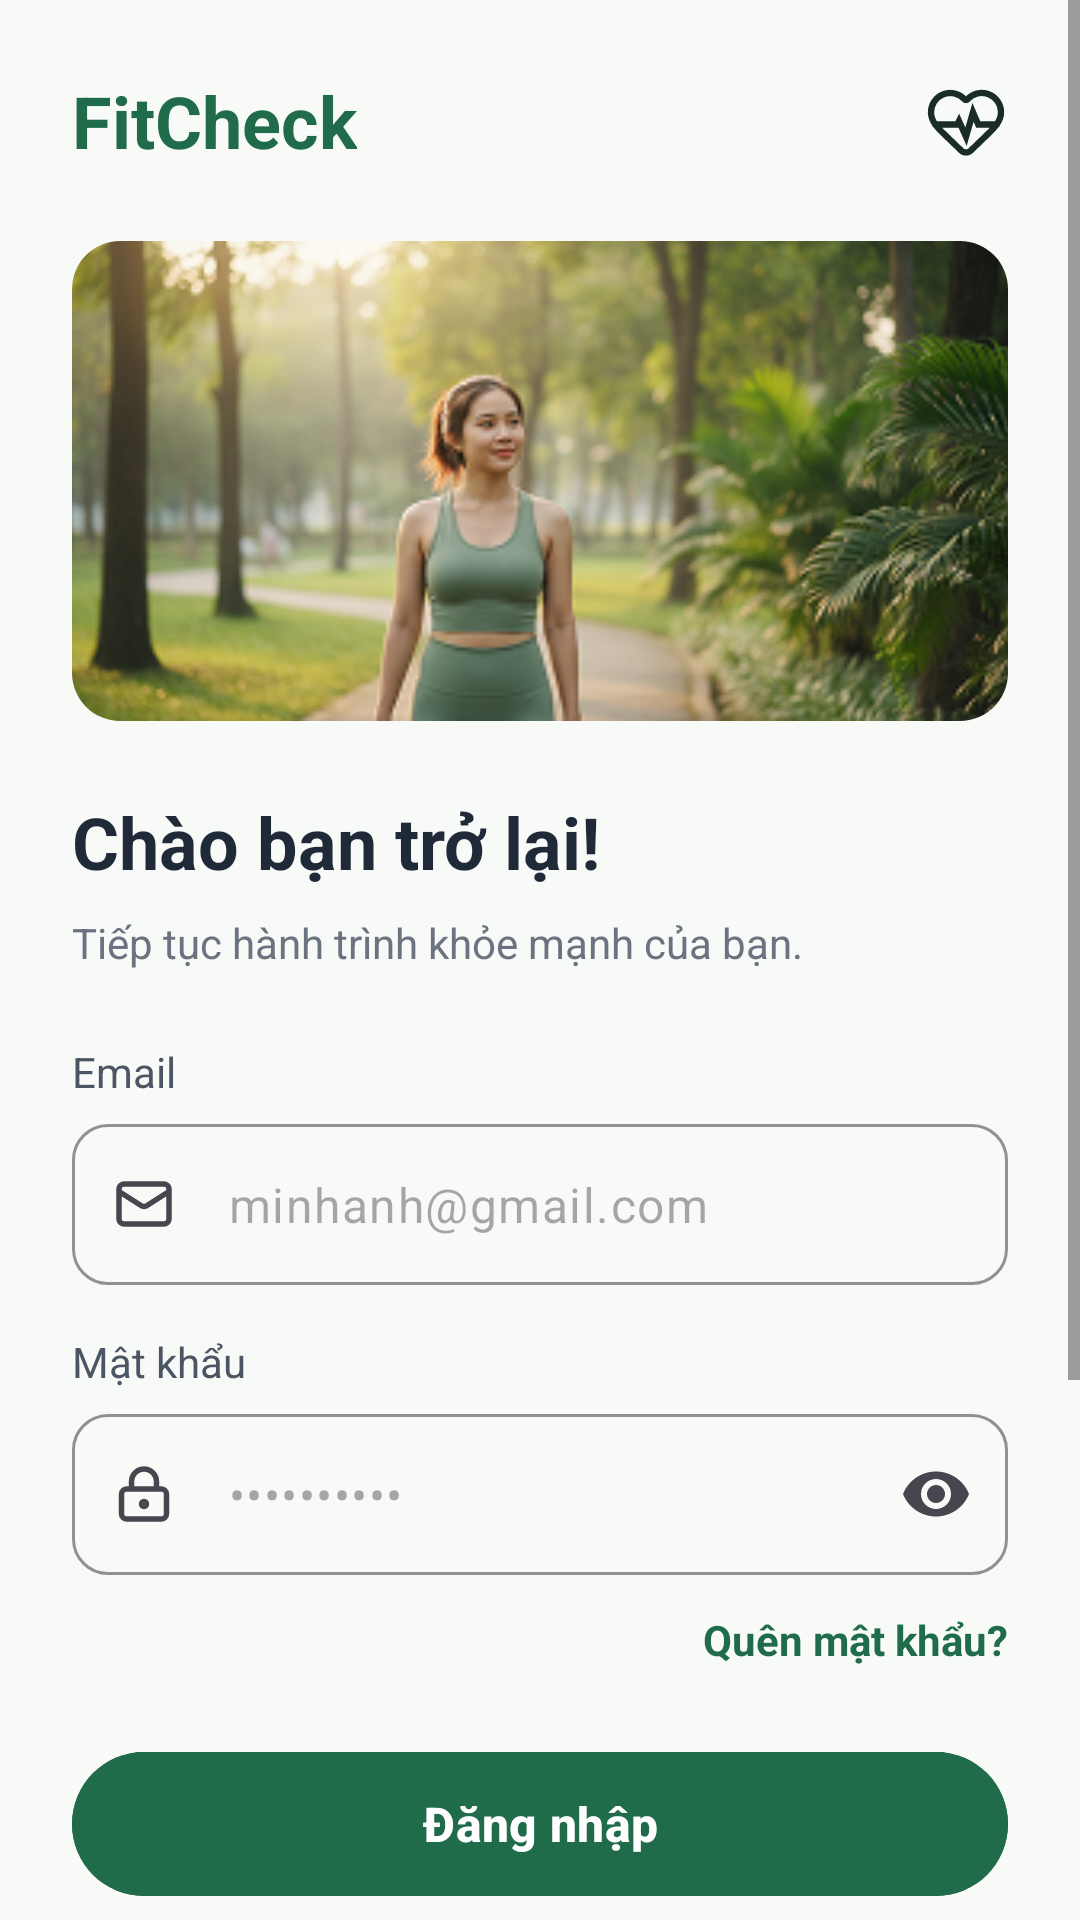

Where to tap for icons on this 1080×1920 app screen, as point (x, y):
heart: point (966, 122)
